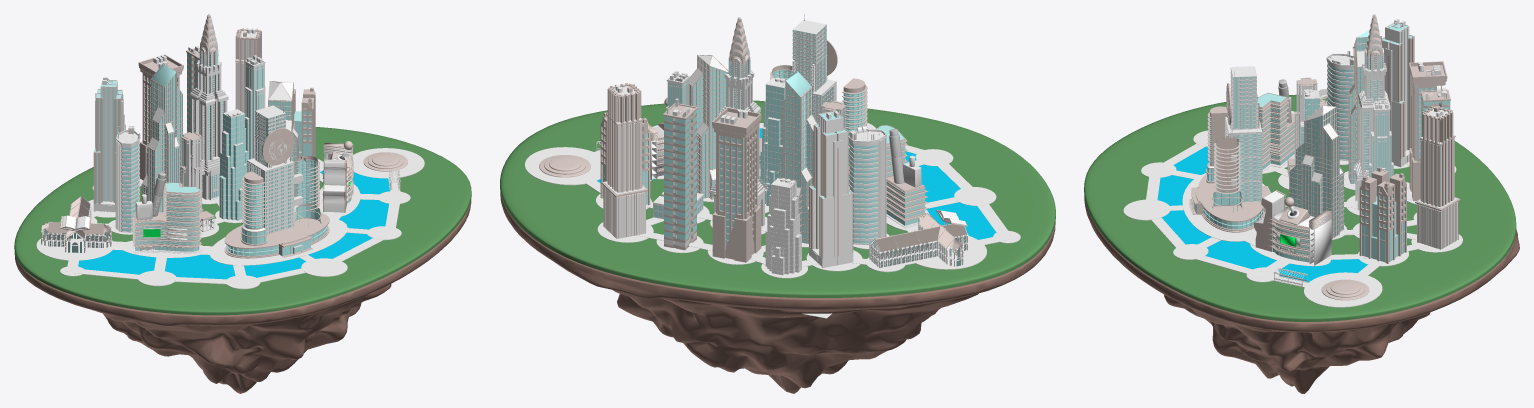
Rendered from TP_World-transformed.glb.
3 views of the same model, side by side, from view 1: azimuth 30°, elevation 25°; view 2: azimuth 150°, elevation 25°; view 3: azimuth 270°, elevation 25° (orthographic). The views are drawn at different scales.
Parts seen in each view (by area): view 1: Grass, Island, Road, Water, HQ-Mat.1 (×3), 11-Mat.6, HQ-Mat.10 (×3), HQ-Mat.6, 9-Mat.10, 9-Mat.1, Bottle-Mat.1, 13-Mat.10 (+25 smaller); view 2: Grass, Island, Road, 1-Mat.1, 2-Mat.1, 6-Mat.6, 14-Mat.6 (×2), 2-Mat.6, 9-Mat.10, 10-Mat.6, 7-Mat.1, 7-Mat.10 (+26 smaller); view 3: Grass, Island, Road, Water, 2-Mat.1, HQ-Mat.1 (×2), 8-Mat.1, 8-Mat.10, 4-Mat.1, HQ-Mat.10 (×4), HQ-Mat.6, 2-Mat.6 (+22 smaller).
Boxes of the visible parts, box(x1,y1,x2,y2) form: Grass: box(14, 127, 471, 315); Island: box(14, 199, 471, 393); Road: box(36, 148, 424, 289); Water: box(78, 170, 389, 279); HQ-Mat.1 (×3): box(224, 128, 329, 258); 11-Mat.6: box(190, 15, 228, 200); HQ-Mat.10 (×3): box(226, 159, 327, 255); HQ-Mat.6: box(242, 105, 302, 234); 9-Mat.10: box(142, 64, 182, 212); 9-Mat.1: box(141, 63, 183, 212); Bottle-Mat.1: box(132, 182, 201, 248); 13-Mat.10: box(219, 114, 247, 220); Grass: box(500, 100, 1055, 297); Island: box(500, 192, 1055, 393); Road: box(525, 123, 1020, 278); 1-Mat.1: box(712, 107, 761, 262); 2-Mat.1: box(601, 83, 647, 238); 6-Mat.6: box(809, 110, 853, 268); 14-Mat.6 (×2): box(765, 178, 801, 275); 2-Mat.6: box(604, 95, 645, 238); 9-Mat.10: box(780, 70, 813, 243); 10-Mat.6: box(848, 129, 886, 245); 7-Mat.1: box(663, 103, 697, 249); 7-Mat.10: box(664, 110, 696, 240); Grass: box(1084, 94, 1516, 321); Island: box(1084, 196, 1519, 393); Road: box(1123, 111, 1462, 307); Water: box(1157, 146, 1367, 282); 2-Mat.1: box(1415, 106, 1460, 249); HQ-Mat.1 (×2): box(1189, 106, 1270, 232); 8-Mat.1: box(1289, 105, 1344, 239); 8-Mat.10: box(1290, 107, 1343, 236); 4-Mat.1: box(1359, 167, 1406, 263); HQ-Mat.10 (×4): box(1194, 76, 1263, 229); HQ-Mat.6: box(1207, 66, 1262, 202); 2-Mat.6: box(1417, 118, 1457, 249).
Size of what is drawn, in the model's own units: 118 by 91.83 by 96.83.
